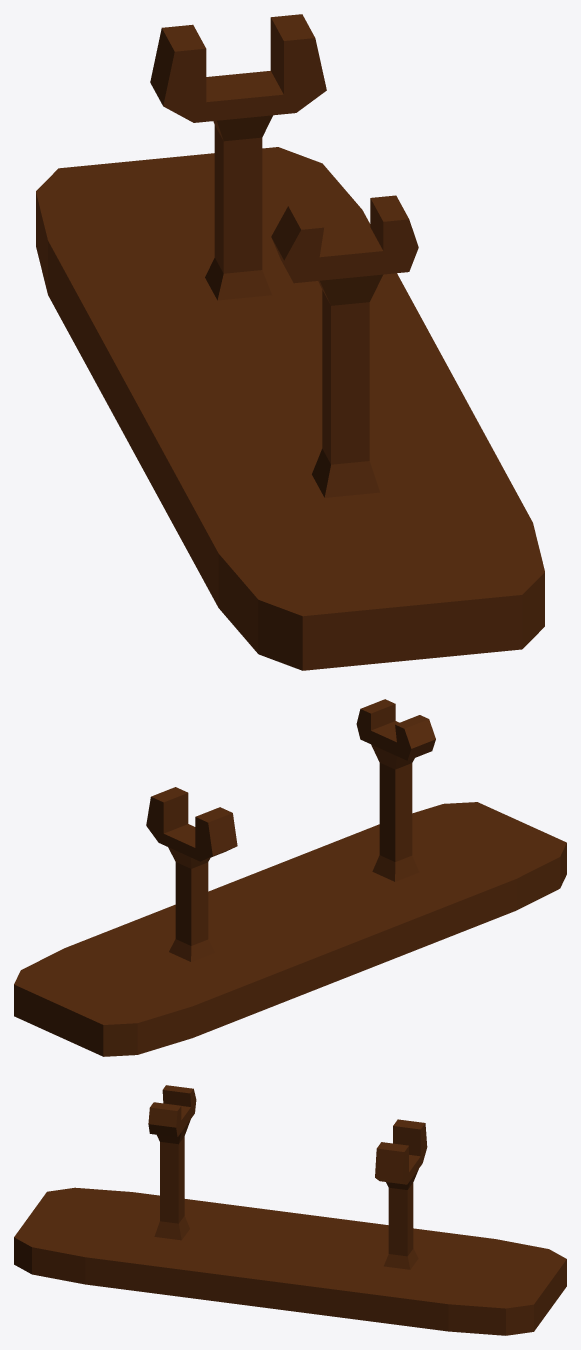
The model's file is pen stand.fbx.
The picture shows the model from 3 angles, top to bottom: view 1: azimuth 30°, elevation 25°; view 2: azimuth 150°, elevation 25°; view 3: azimuth 270°, elevation 25°; orthographic projection. The views are drawn at different scales.
Parts seen in each view (by area): view 1: pen stand; view 2: pen stand; view 3: pen stand.
Part boxes in pixels (x1,y1,x2,y2): pen stand: (36, 14, 544, 670); pen stand: (14, 699, 566, 1056); pen stand: (14, 1085, 566, 1335).
Size of the model in its own units: 10.43 by 6.55 by 20.19.
